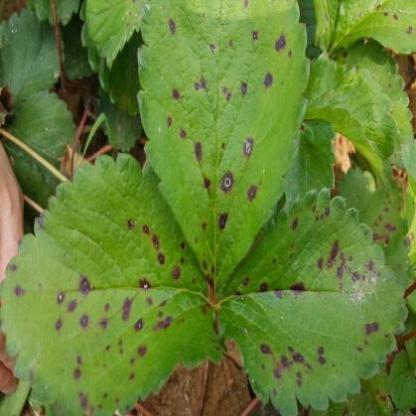Strawberry_Leaf_Spot: (0, 152, 228, 415), (135, 0, 313, 307), (216, 187, 409, 415), (336, 166, 415, 296), (333, 36, 415, 152), (276, 118, 338, 212), (327, 0, 415, 57), (84, 0, 146, 73), (324, 380, 398, 415), (298, 0, 332, 63)
